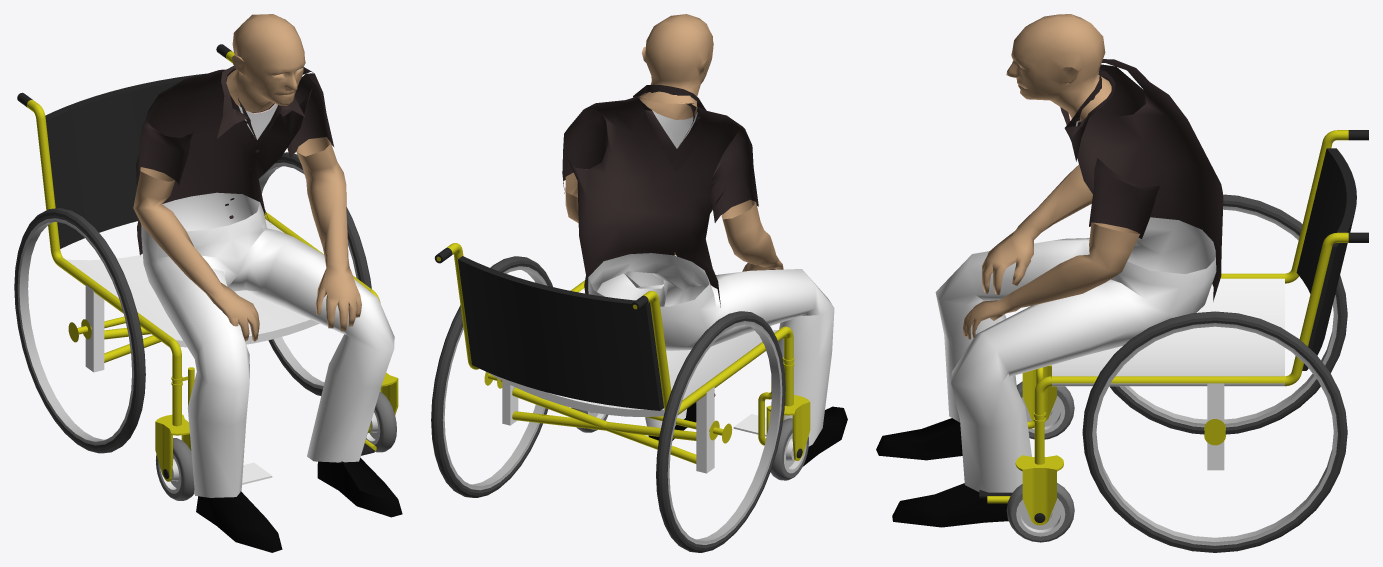
The model's file is elderly.obj.
3 renders of one model, left to right at view 1: azimuth 30°, elevation 25°; view 2: azimuth 150°, elevation 25°; view 3: azimuth 270°, elevation 25°, orthographic. The views are drawn at different scales.
Visible parts, largest first — view 1: Cadeira_de_Rodas_001, Group_007, Group_005, Group_008, Group_009, Group_003; view 2: Cadeira_de_Rodas_001, Group_008, Group_007, Group_005, Group_009, Group_003; view 3: Cadeira_de_Rodas_001, Group_007, Group_008, Group_005, Group_009.
Part boxes in pixels (x1,y1,x2,y2): Cadeira_de_Rodas_001: (14,44,398,500); Group_007: (141,192,394,497); Group_005: (133,14,361,341); Group_008: (136,66,333,255); Group_009: (196,458,402,552); Group_003: (238,104,277,139); Cadeira_de_Rodas_001: (431,243,810,552); Group_008: (562,84,758,307); Group_007: (588,253,834,446); Group_005: (565,14,783,271); Group_009: (648,393,847,466); Group_003: (652,110,697,148); Cadeira_de_Rodas_001: (979,130,1368,552); Group_007: (935,217,1216,492); Group_008: (1060,59,1223,301); Group_005: (963,14,1139,339); Group_009: (876,418,1008,527).
Size of the model in its own units: 28.61 by 51.4 by 48.01.
